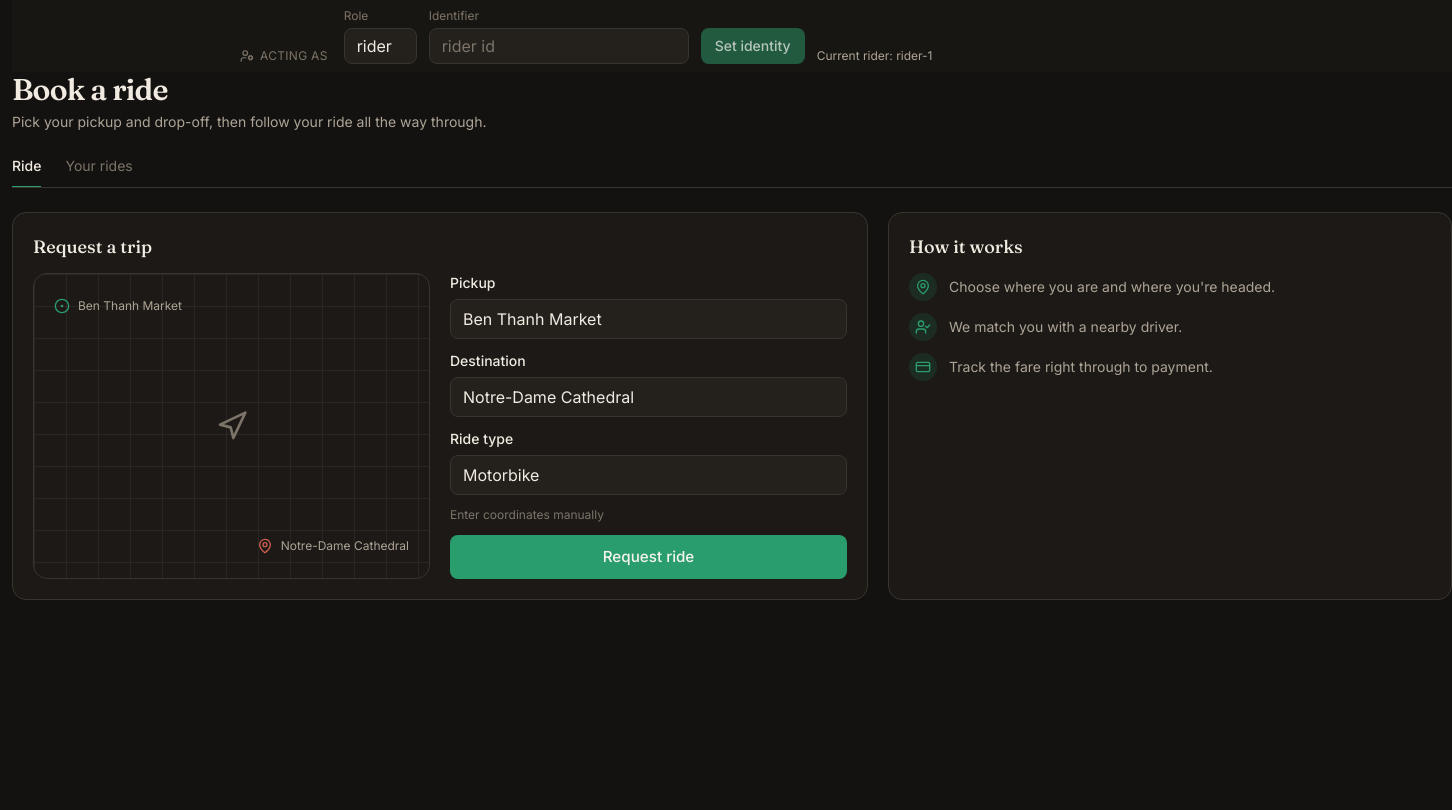
Test case: Feature: ridenow-frontend, rider ride journey › shows the empty state when the rider has no rides
Click the button "Your rides" at (99, 172), box [66,156,133,188]
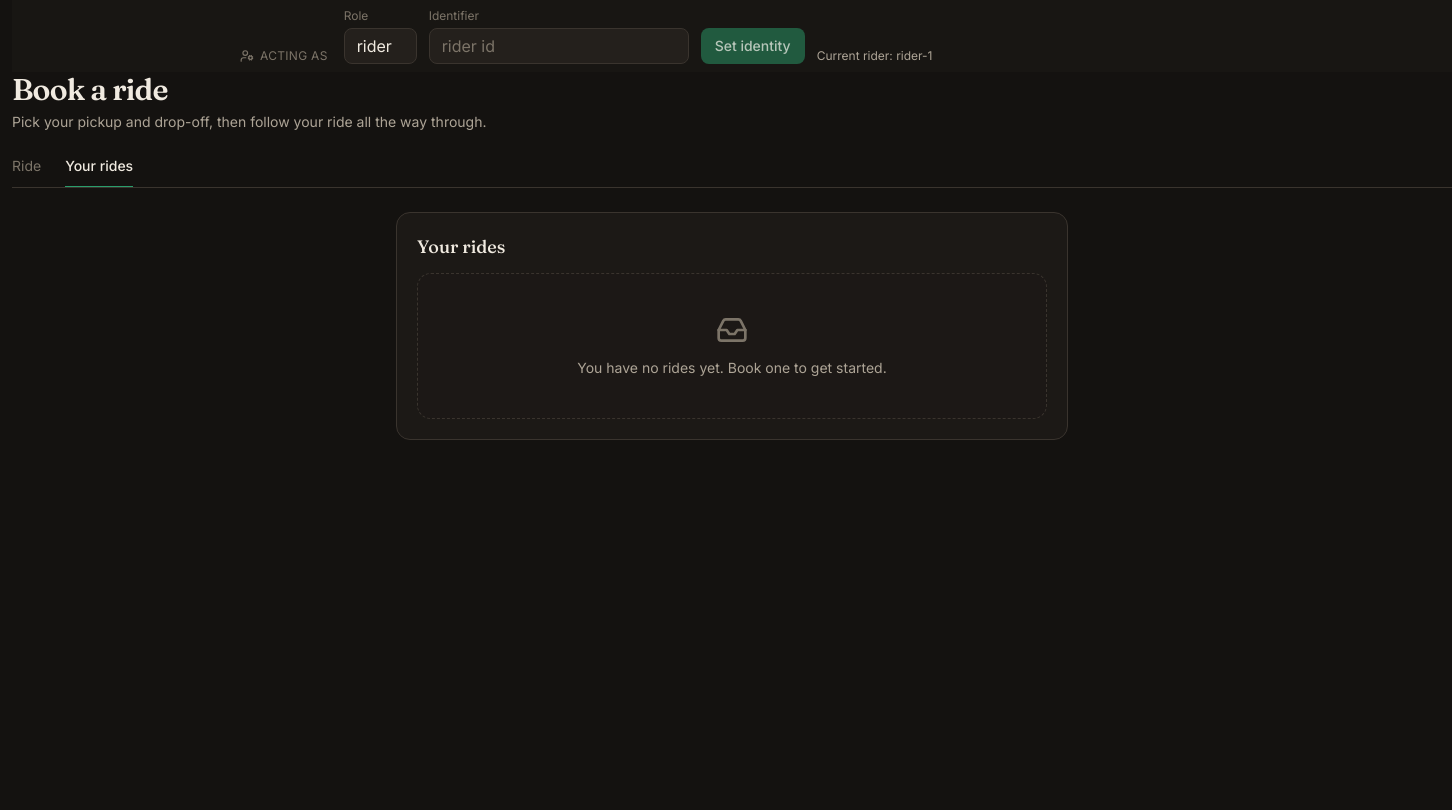
Now the text "You have no rides yet. Book one to get started." is shown, box [577,358,887,378]
